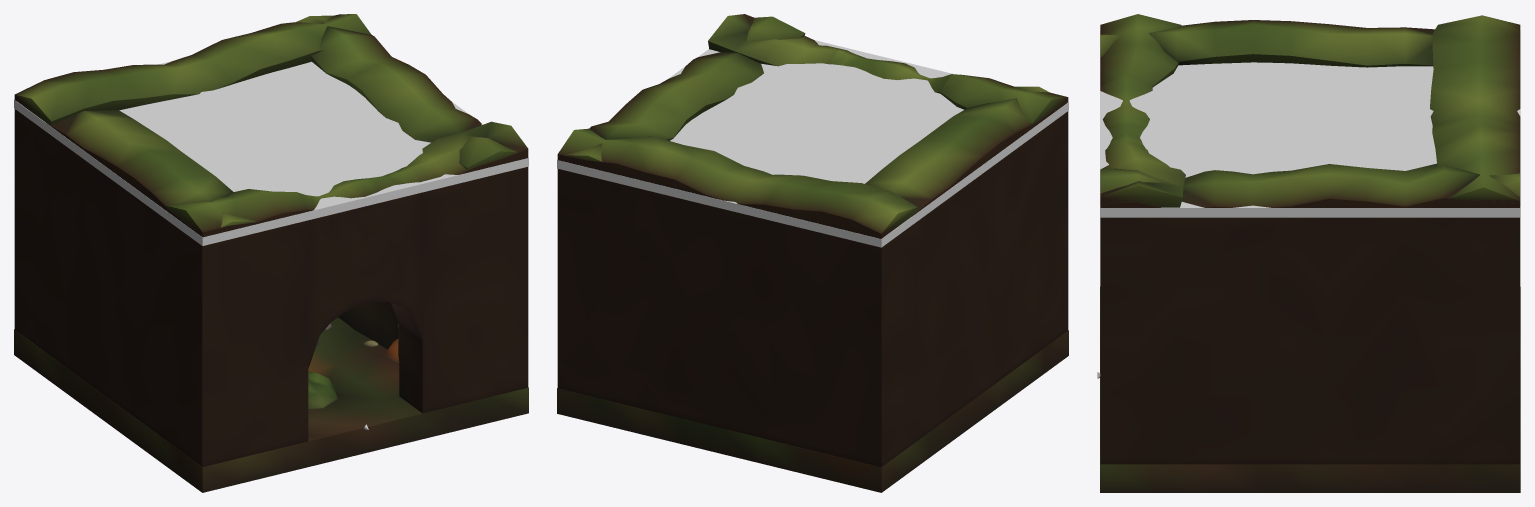
File: mossy_treasure.fbx
3 views of the same model, side by side, from view 1: azimuth 30°, elevation 25°; view 2: azimuth 150°, elevation 25°; view 3: azimuth 270°, elevation 25° (orthographic). The views are drawn at different scales.
Parts seen in each view (by area): view 1: COL_WallW_01, BARRIER_Lid, COL_WallS_01, COL_WallS_02, COL_Floor, COL_WallS_03, COL_WallN_01, COL_WallE_01, DECO_MossMound_01; view 2: COL_WallN_01, COL_WallW_01, BARRIER_Lid, COL_Floor, COL_WallE_01, COL_WallS_01, COL_WallS_02, COL_WallS_03; view 3: COL_WallE_01, BARRIER_Lid, COL_WallN_01, COL_Floor, COL_WallW_01, COL_WallS_02, COL_WallS_01, COL_WallS_03.
Part boxes in pixels (x1,y1,x2,y2): COL_WallW_01: [14, 100, 256, 466]; BARRIER_Lid: [14, 61, 528, 245]; COL_WallS_01: [399, 121, 528, 413]; COL_WallS_02: [166, 189, 308, 466]; COL_Floor: [14, 317, 528, 492]; COL_WallS_03: [297, 168, 422, 368]; COL_WallN_01: [14, 14, 371, 125]; COL_WallE_01: [296, 15, 517, 349]; DECO_MossMound_01: [308, 371, 337, 409]; COL_WallN_01: [557, 128, 917, 467]; COL_WallW_01: [865, 86, 1068, 466]; BARRIER_Lid: [557, 40, 1068, 247]; COL_Floor: [557, 330, 1068, 492]; COL_WallE_01: [564, 16, 805, 161]; COL_WallS_01: [708, 14, 846, 66]; COL_WallS_02: [940, 74, 1068, 124]; COL_WallS_03: [829, 50, 951, 93]; COL_WallE_01: [1100, 163, 1519, 464]; BARRIER_Lid: [1100, 30, 1520, 217]; COL_WallN_01: [1430, 15, 1520, 463]; COL_Floor: [1100, 287, 1520, 492]; COL_WallW_01: [1100, 20, 1434, 67]; COL_WallS_02: [1100, 14, 1181, 87]; COL_WallS_01: [1100, 142, 1185, 463]; COL_WallS_03: [1100, 75, 1152, 149].
Bounding box in the file's own units: 8000 × 6449 × 8050.
